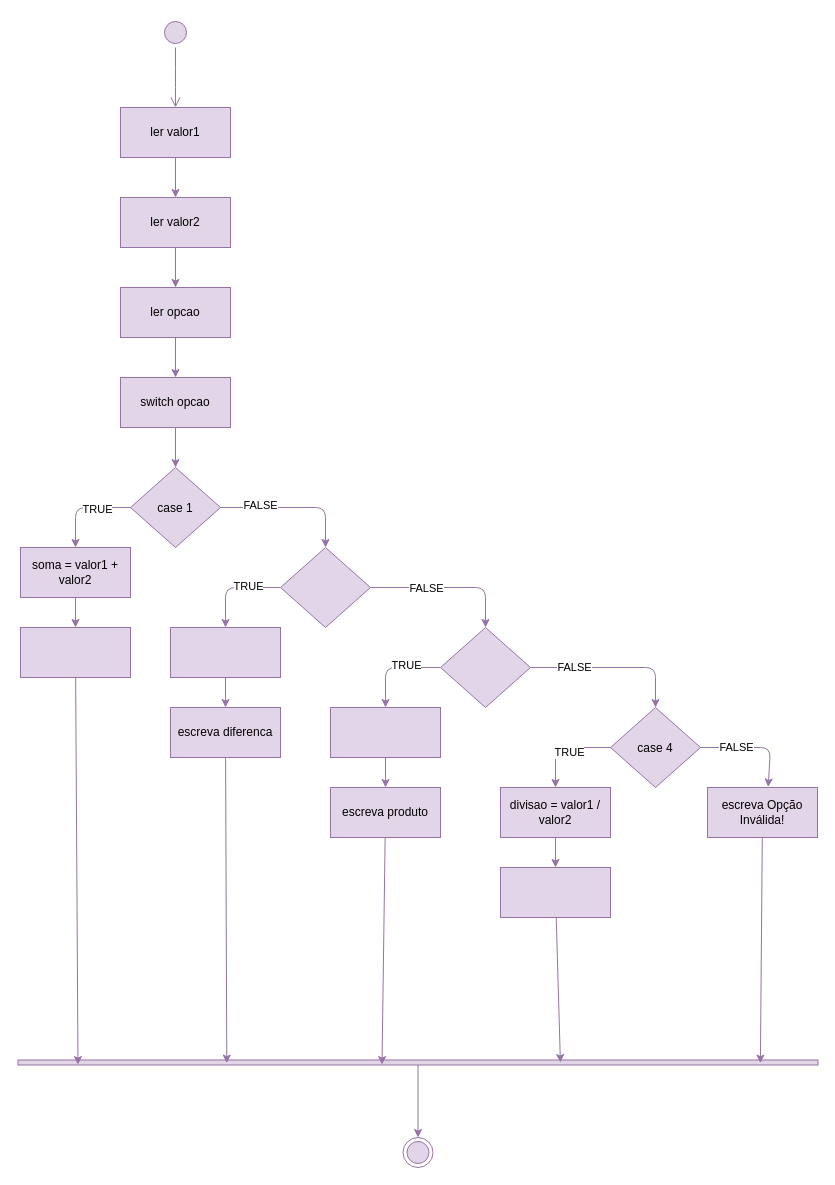
This 835x1185 diagram has some shape labels left out. Each missing label, with the box of its shape:
case 2: (280, 546, 370, 628)
case 3: (440, 626, 530, 708)
diferenca = valor1 - valor2: (170, 626, 280, 678)
escreva divisao: (500, 866, 610, 918)
escreva soma: (20, 626, 130, 678)
produto = valor1 * valor2: (330, 706, 440, 758)
